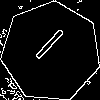I: (26, 26, 67, 69)
